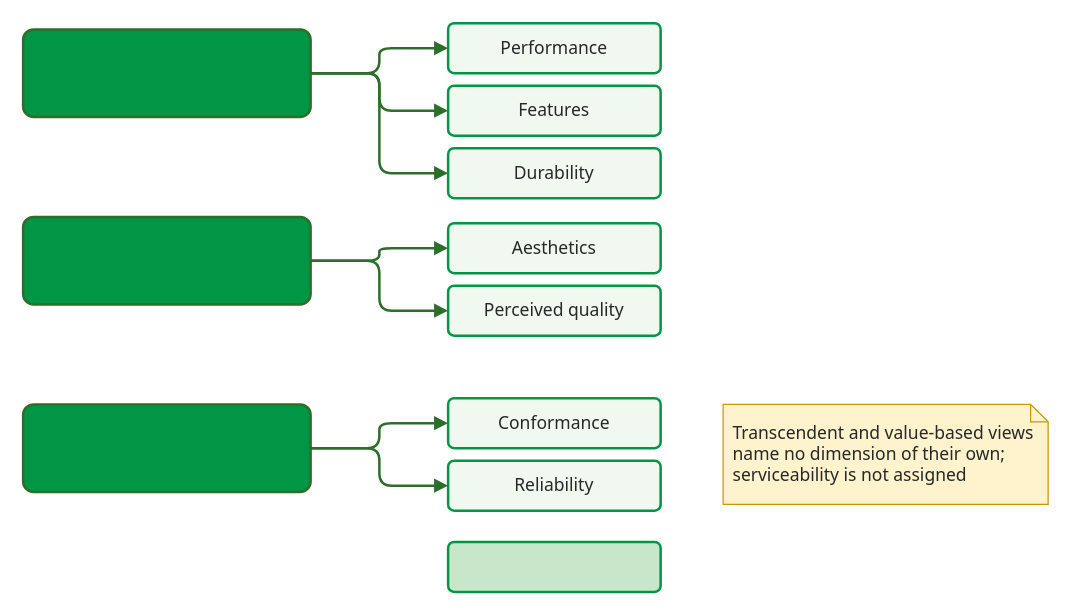
Image size: 1070x614. Some labels were removed from this diagram. Here are the shapes that lost their labels. From the top down, the centre of each, then its label:
[166,73]: Product-based more of a desired attribute
[166,260]: User-based satisfies the user's wants
[166,447]: Manufacturing-based conforms to the specification
[553,566]: Serviceability
